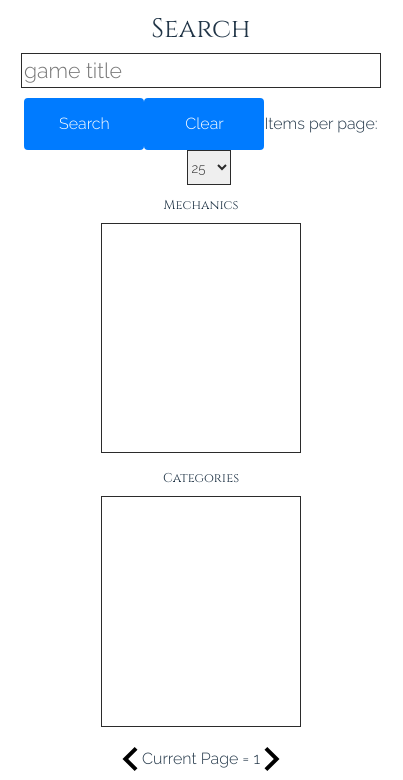
it: SearchBar Component › clears all filters when Clear button is clicked
The image size is (403, 780).
# Set some values first
Type "Test Game" into the field with placeholder "game title" at (201, 71), box [21,53,381,88]
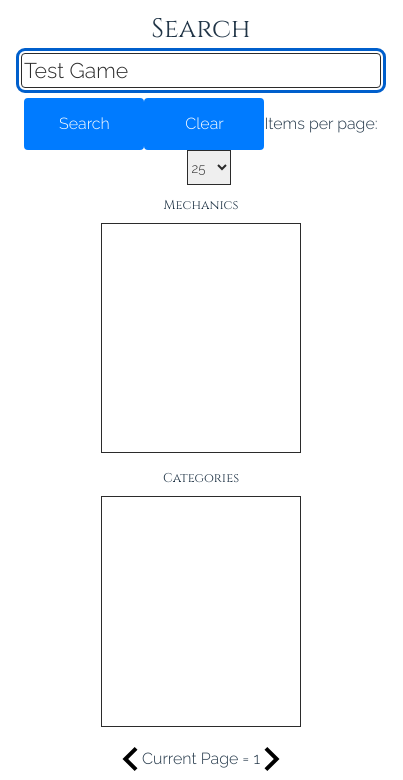
# Click Clear button
Click the button "Clear" at (204, 124), box [144,98,264,150]
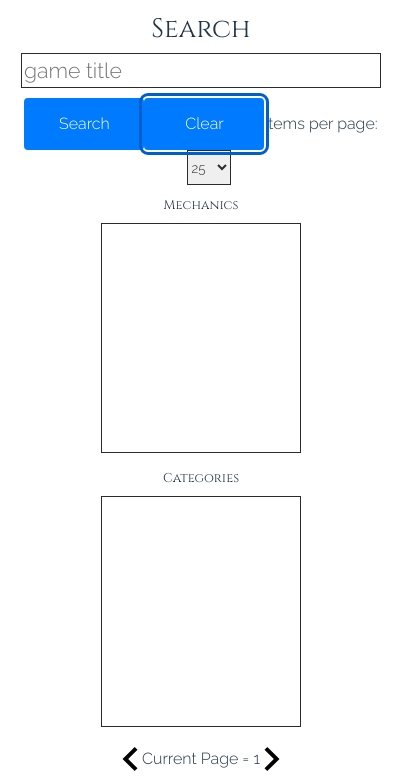
expect the field with placeholder "game title" is empty: met, box [21,53,381,88]
